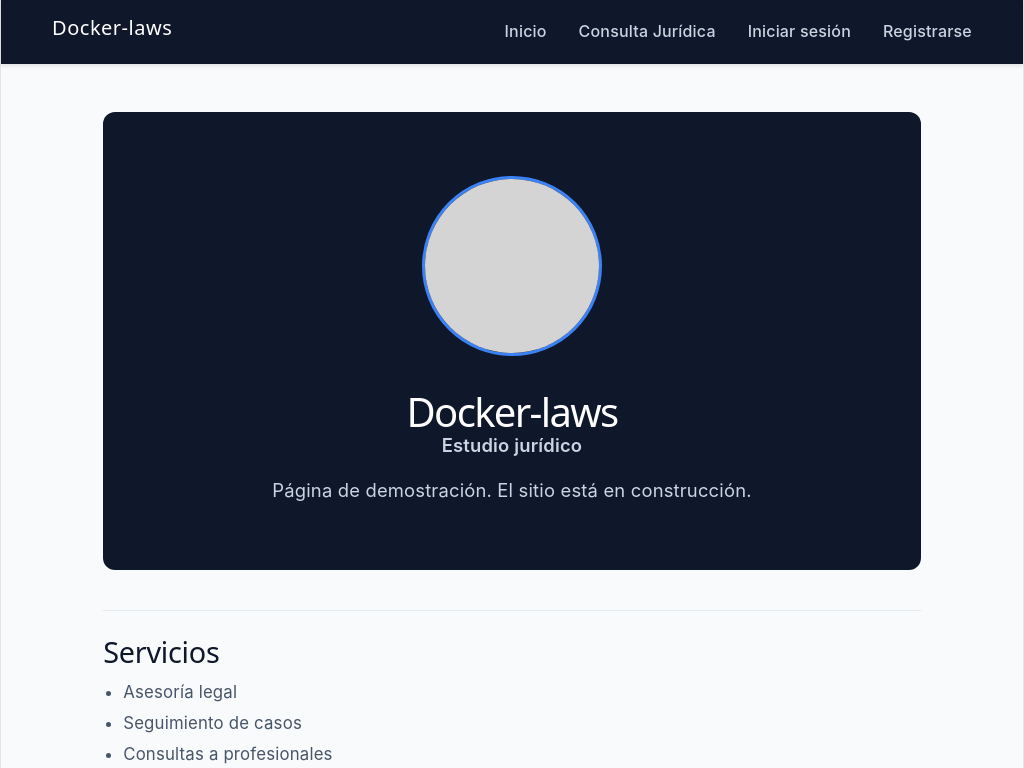
Test: crea una cuenta desde el formulario e inicia sesión con las credenciales ingresadas
Click the link "Registrarse". click: [928, 32]
box: [883,20,972,43]
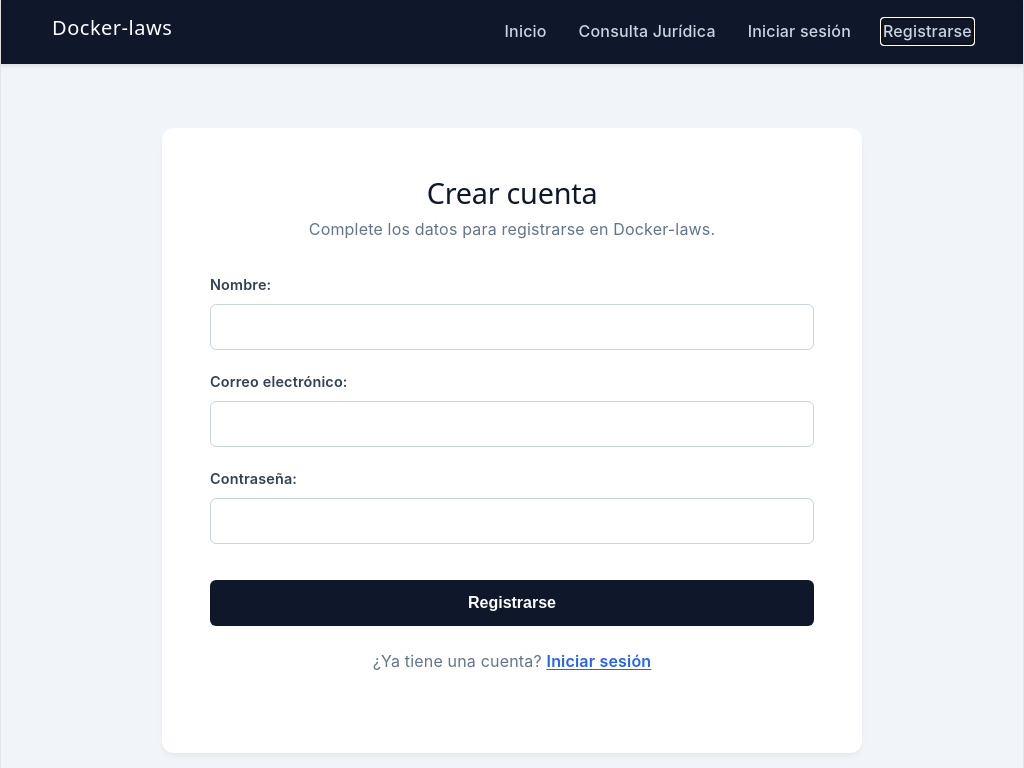
Type "Cuenta ficticia" into the field labelled "Nombre:". click: [512, 327]
box: [210,304,814,350]
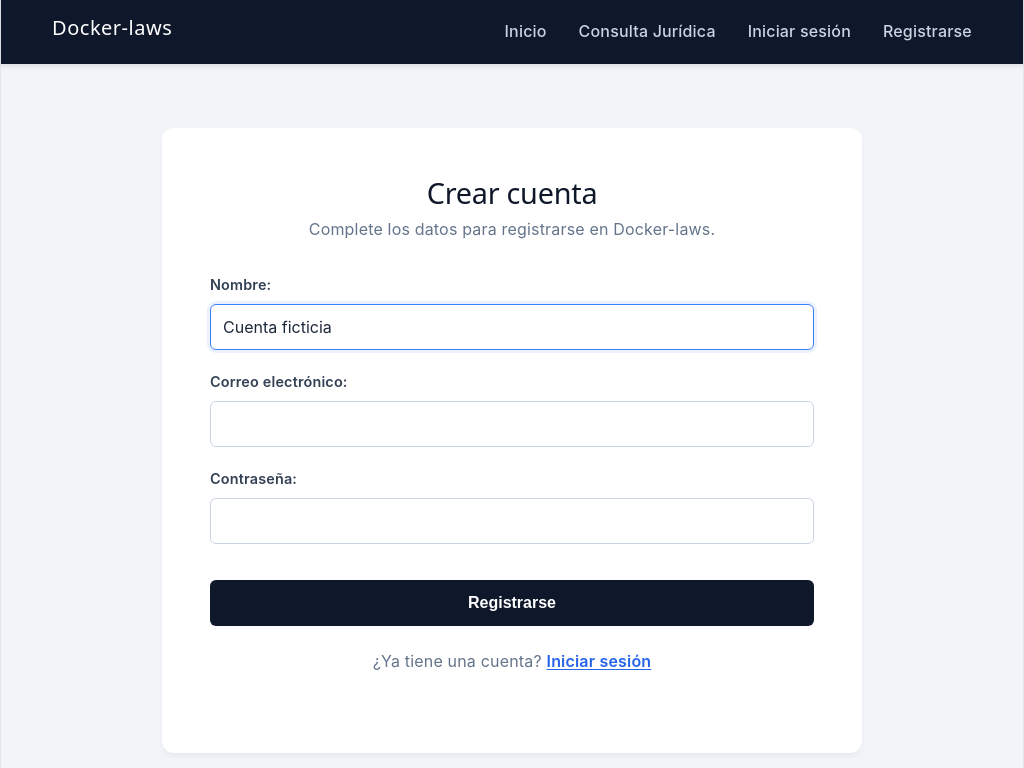
Type "cuenta@ejemplo.invalid" into the field labelled "Correo electrónico:". click: [512, 424]
box: [210,401,814,447]
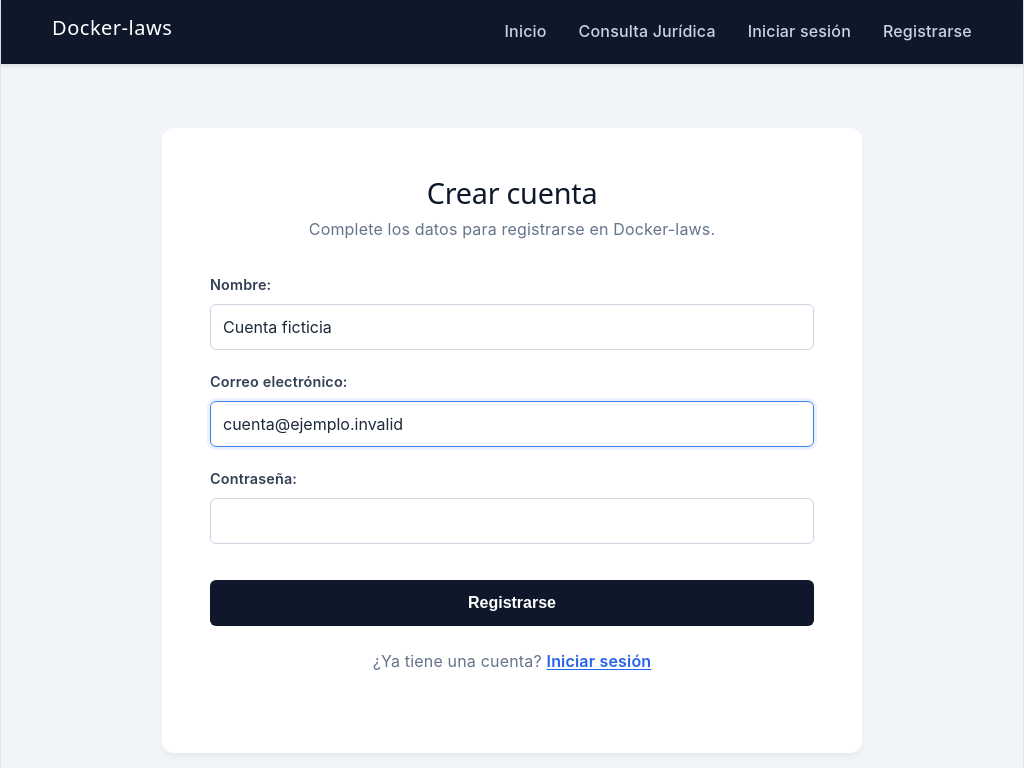
Type "ClaveFicticiaDePrueba" into the password field labelled "Contraseña:". click: [512, 521]
box: [210,498,814,544]
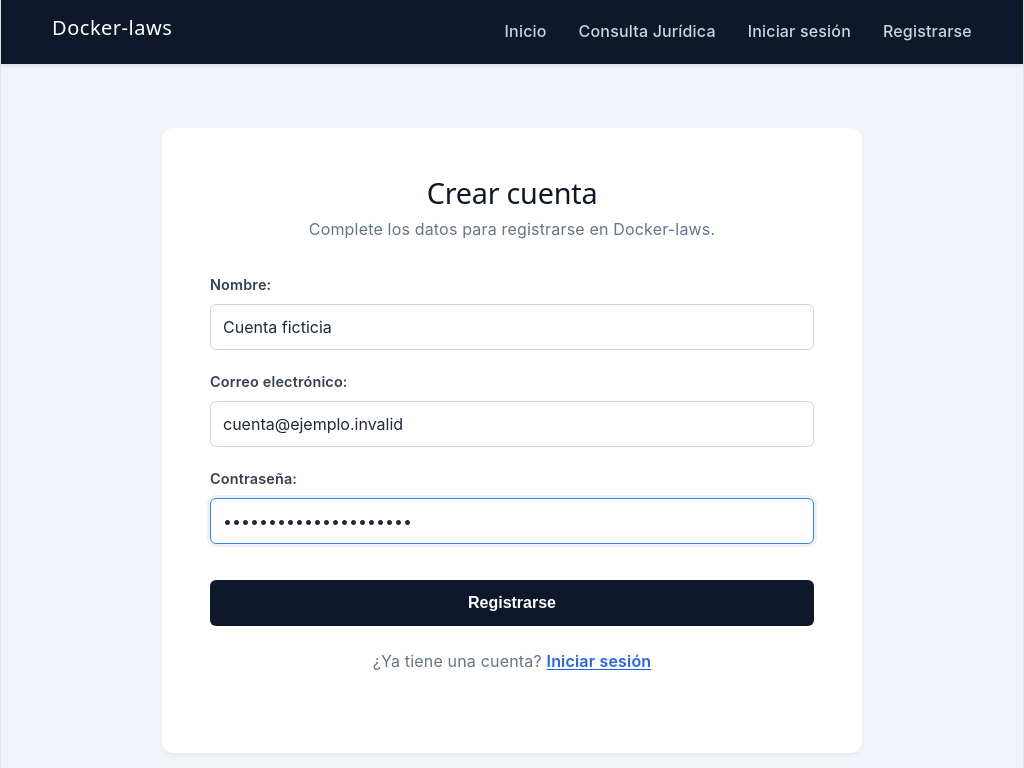
Click the button "Registrarse". click: [512, 603]
box: [210,580,814,626]
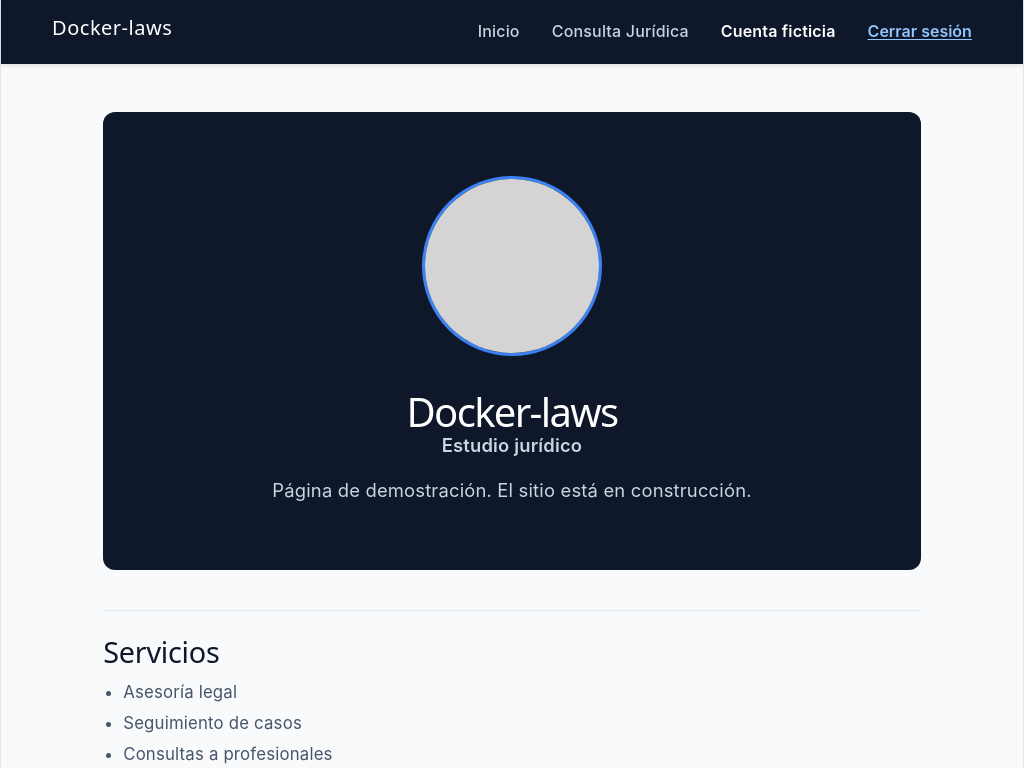
Result: the button "Cerrar sesión" is shown at [868,20,972,43]
Result: the text "Cuenta ficticia" is shown at [721,20,836,43]
